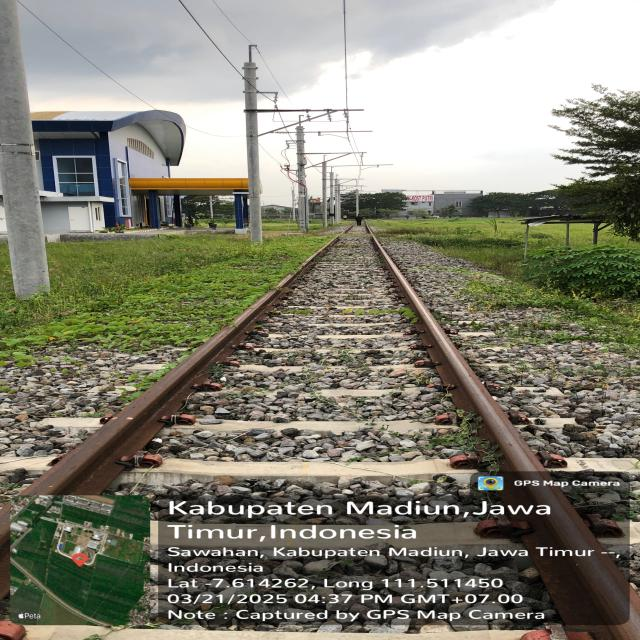rail-detection: (371, 236, 640, 640), (21, 237, 340, 495)
